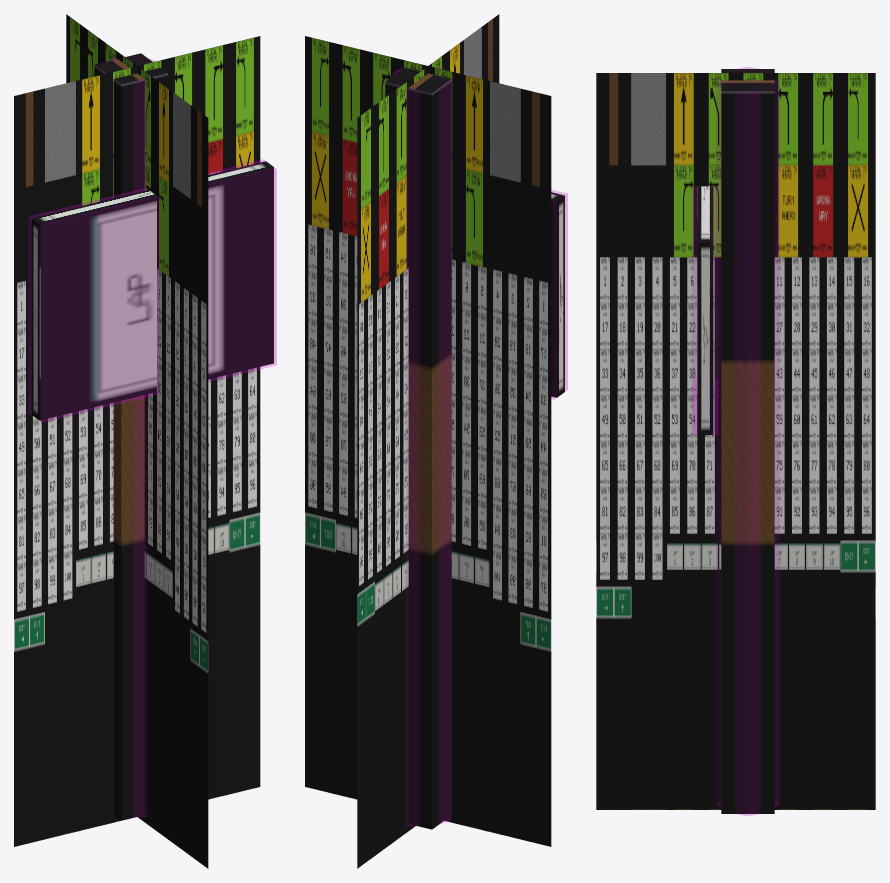
Rendered from lapsign_07.dae.
3 renders of one model, left to right at view 1: azimuth 30°, elevation 25°; view 2: azimuth 150°, elevation 25°; view 3: azimuth 270°, elevation 25°, orthographic.
Visible parts, largest first — view 1: lapsign_07_a50, lapsign_07_a800, Colmesh_sign-1, lapsign_07_a200, Colmesh_post-1; view 2: lapsign_07_a50, lapsign_07_a800, Colmesh_post-1, lapsign_07_a200, Colmesh_sign-1; view 3: lapsign_07_a50, lapsign_07_a800, Colmesh_post-1, Colmesh_sign-1.
Part boxes in pixels (<box>): lapsign_07_a50: <box>14,14,260,868</box>; lapsign_07_a800: <box>31,53,273,820</box>; Colmesh_sign-1: <box>29,159,276,422</box>; lapsign_07_a200: <box>113,57,166,816</box>; Colmesh_post-1: <box>102,56,155,817</box>; lapsign_07_a50: <box>305,14,551,868</box>; lapsign_07_a800: <box>385,68,564,829</box>; Colmesh_post-1: <box>393,65,451,826</box>; lapsign_07_a200: <box>408,69,451,827</box>; Colmesh_sign-1: <box>551,190,567,399</box>; lapsign_07_a50: <box>596,73,875,809</box>; lapsign_07_a800: <box>697,69,774,813</box>; Colmesh_post-1: <box>716,67,779,815</box>; Colmesh_sign-1: <box>692,187,718,434</box>.
Bounding box in the file's own units: 0.525 × 0.525 × 1.53.
2 materials, 1 textured.
